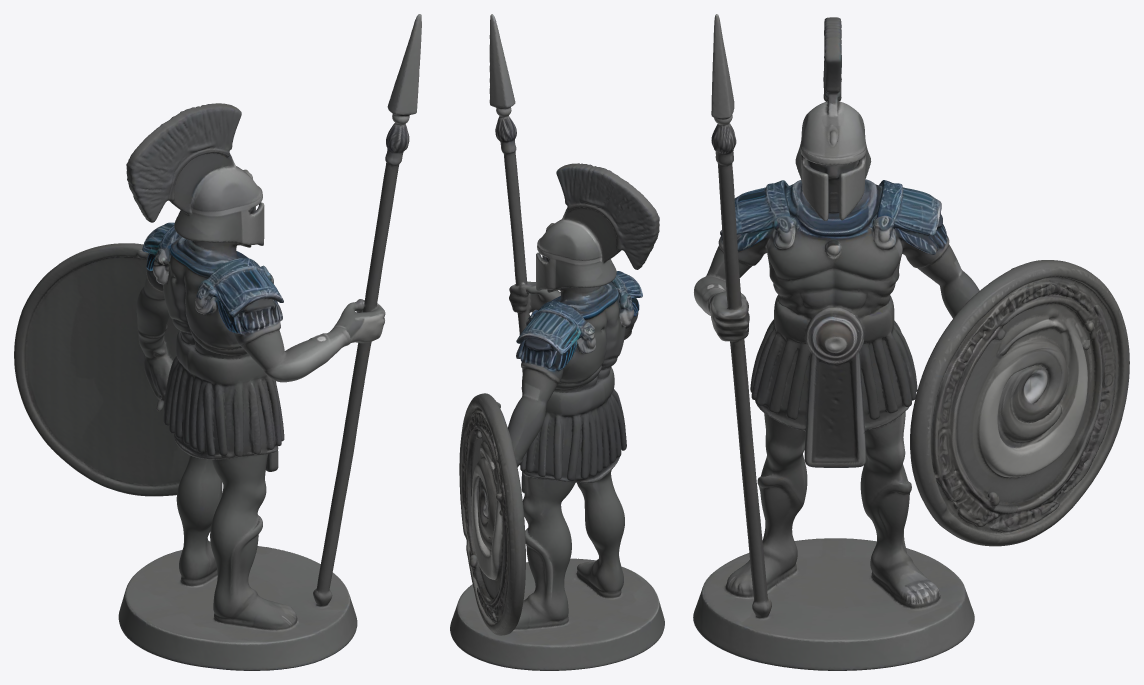
3 renders of one model, left to right at view 1: azimuth 30°, elevation 25°; view 2: azimuth 150°, elevation 25°; view 3: azimuth 270°, elevation 25°, orthographic. The views are drawn at different scales.
Parts seen in each view (by area): view 1: tripo_node_0ed97226-3b53-4dc1-b2d1-0d107952ec0b; view 2: tripo_node_0ed97226-3b53-4dc1-b2d1-0d107952ec0b; view 3: tripo_node_0ed97226-3b53-4dc1-b2d1-0d107952ec0b.
Part boxes in pixels (x1,y1,x2,y2): tripo_node_0ed97226-3b53-4dc1-b2d1-0d107952ec0b: (14, 14, 421, 670); tripo_node_0ed97226-3b53-4dc1-b2d1-0d107952ec0b: (450, 14, 664, 670); tripo_node_0ed97226-3b53-4dc1-b2d1-0d107952ec0b: (693, 14, 1129, 670).
Bounding box in the file's own units: 0.4091 × 1 × 0.5884.
Materials: 1 (1 with a texture image).
